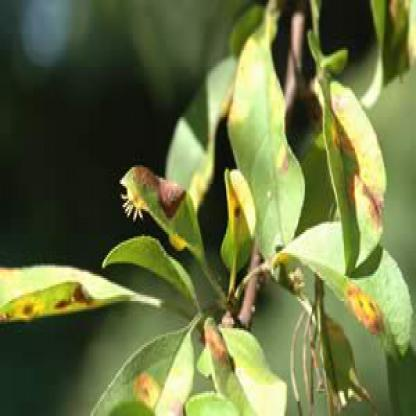Apple rust leaf: (312, 61, 404, 280), (2, 259, 160, 324)
